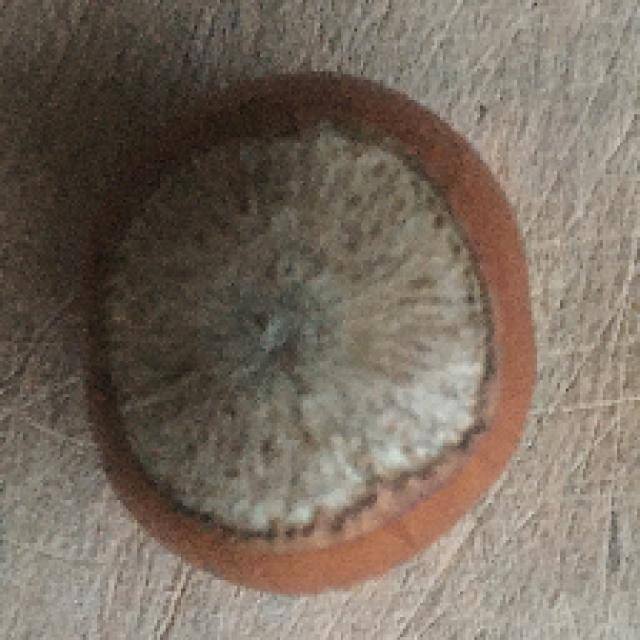qualityHazelnut: (76, 67, 534, 595)
